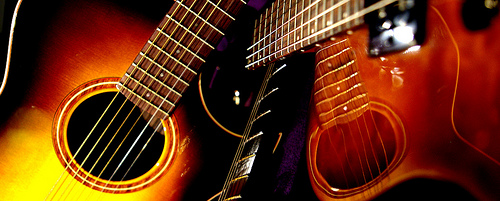guitar: (1, 1, 252, 201)
